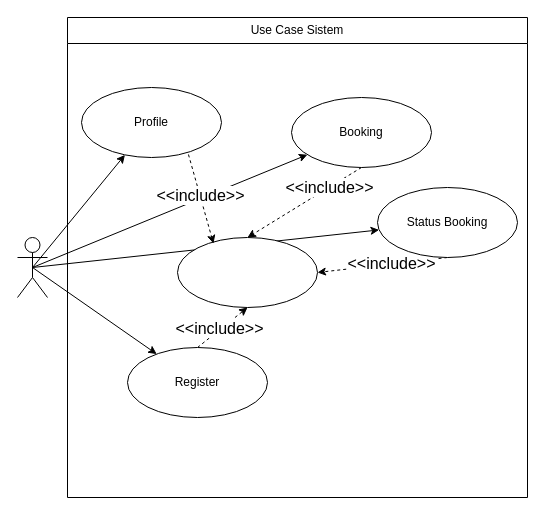
This 545x515 diagram has some shape labels left out. Here are the shapes that lost their labels. From the top down, the centre of each, then its label:
(x=32, y=267): Actor
(x=247, y=272): Login
